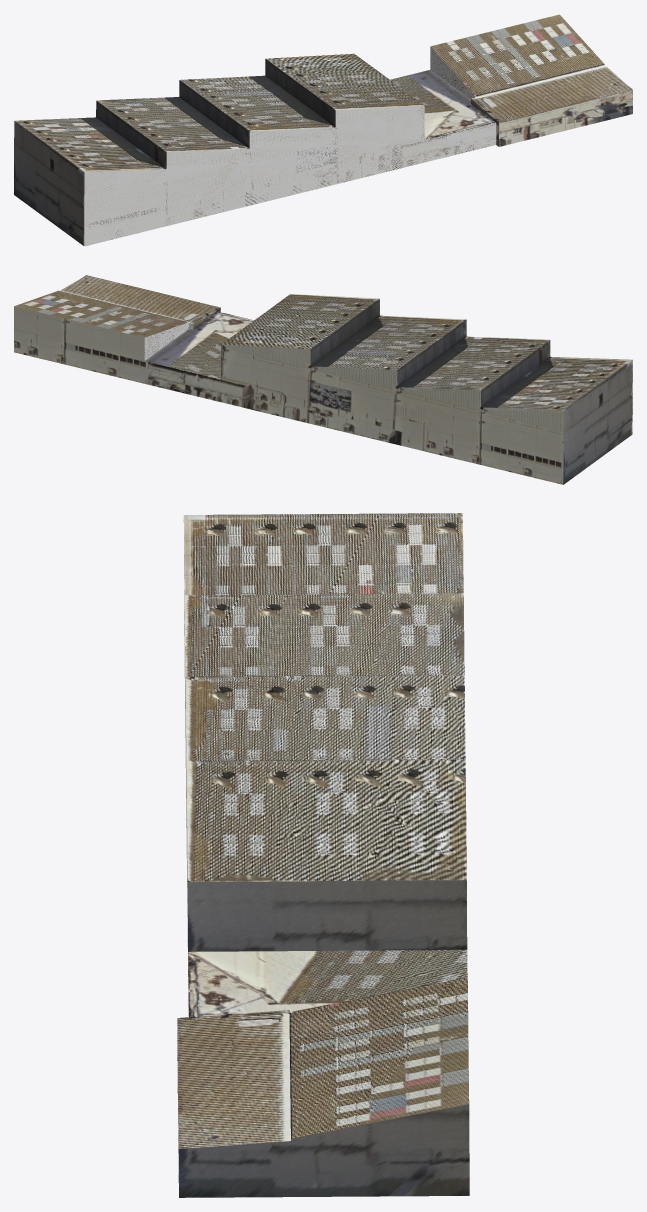
Rendered from Techni_Hangar1.dae.
The picture shows the model from 3 angles, top to bottom: view 1: azimuth 30°, elevation 25°; view 2: azimuth 150°, elevation 25°; view 3: azimuth 270°, elevation 25°; orthographic projection. The views are drawn at different scales.
Parts seen in each view (by area): view 1: group_0 (×12); view 2: group_0 (×12); view 3: group_0 (×9).
Boxes of the visible parts, x1,y1,x2,y2 form: group_0 (×12): (14,14,632,246); group_0 (×12): (14,275,632,484); group_0 (×9): (177,513,469,1197).
Size of the model in its own units: 3587 by 830 by 470.
Materials: 17 (16 with a texture image).
